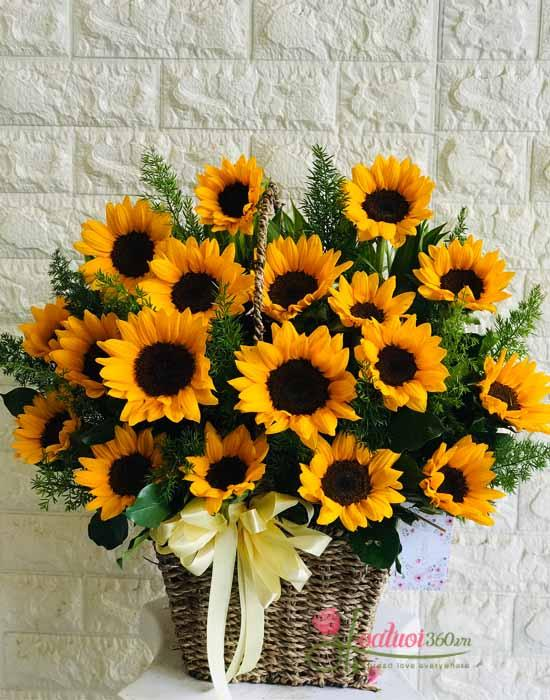sunflower: (6, 144, 547, 689)
